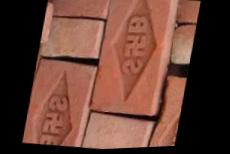brick: (86, 0, 174, 118), (20, 57, 97, 150), (36, 13, 104, 63), (78, 108, 153, 150), (143, 76, 186, 147), (166, 22, 196, 66), (49, 0, 108, 22), (175, 0, 200, 23)
